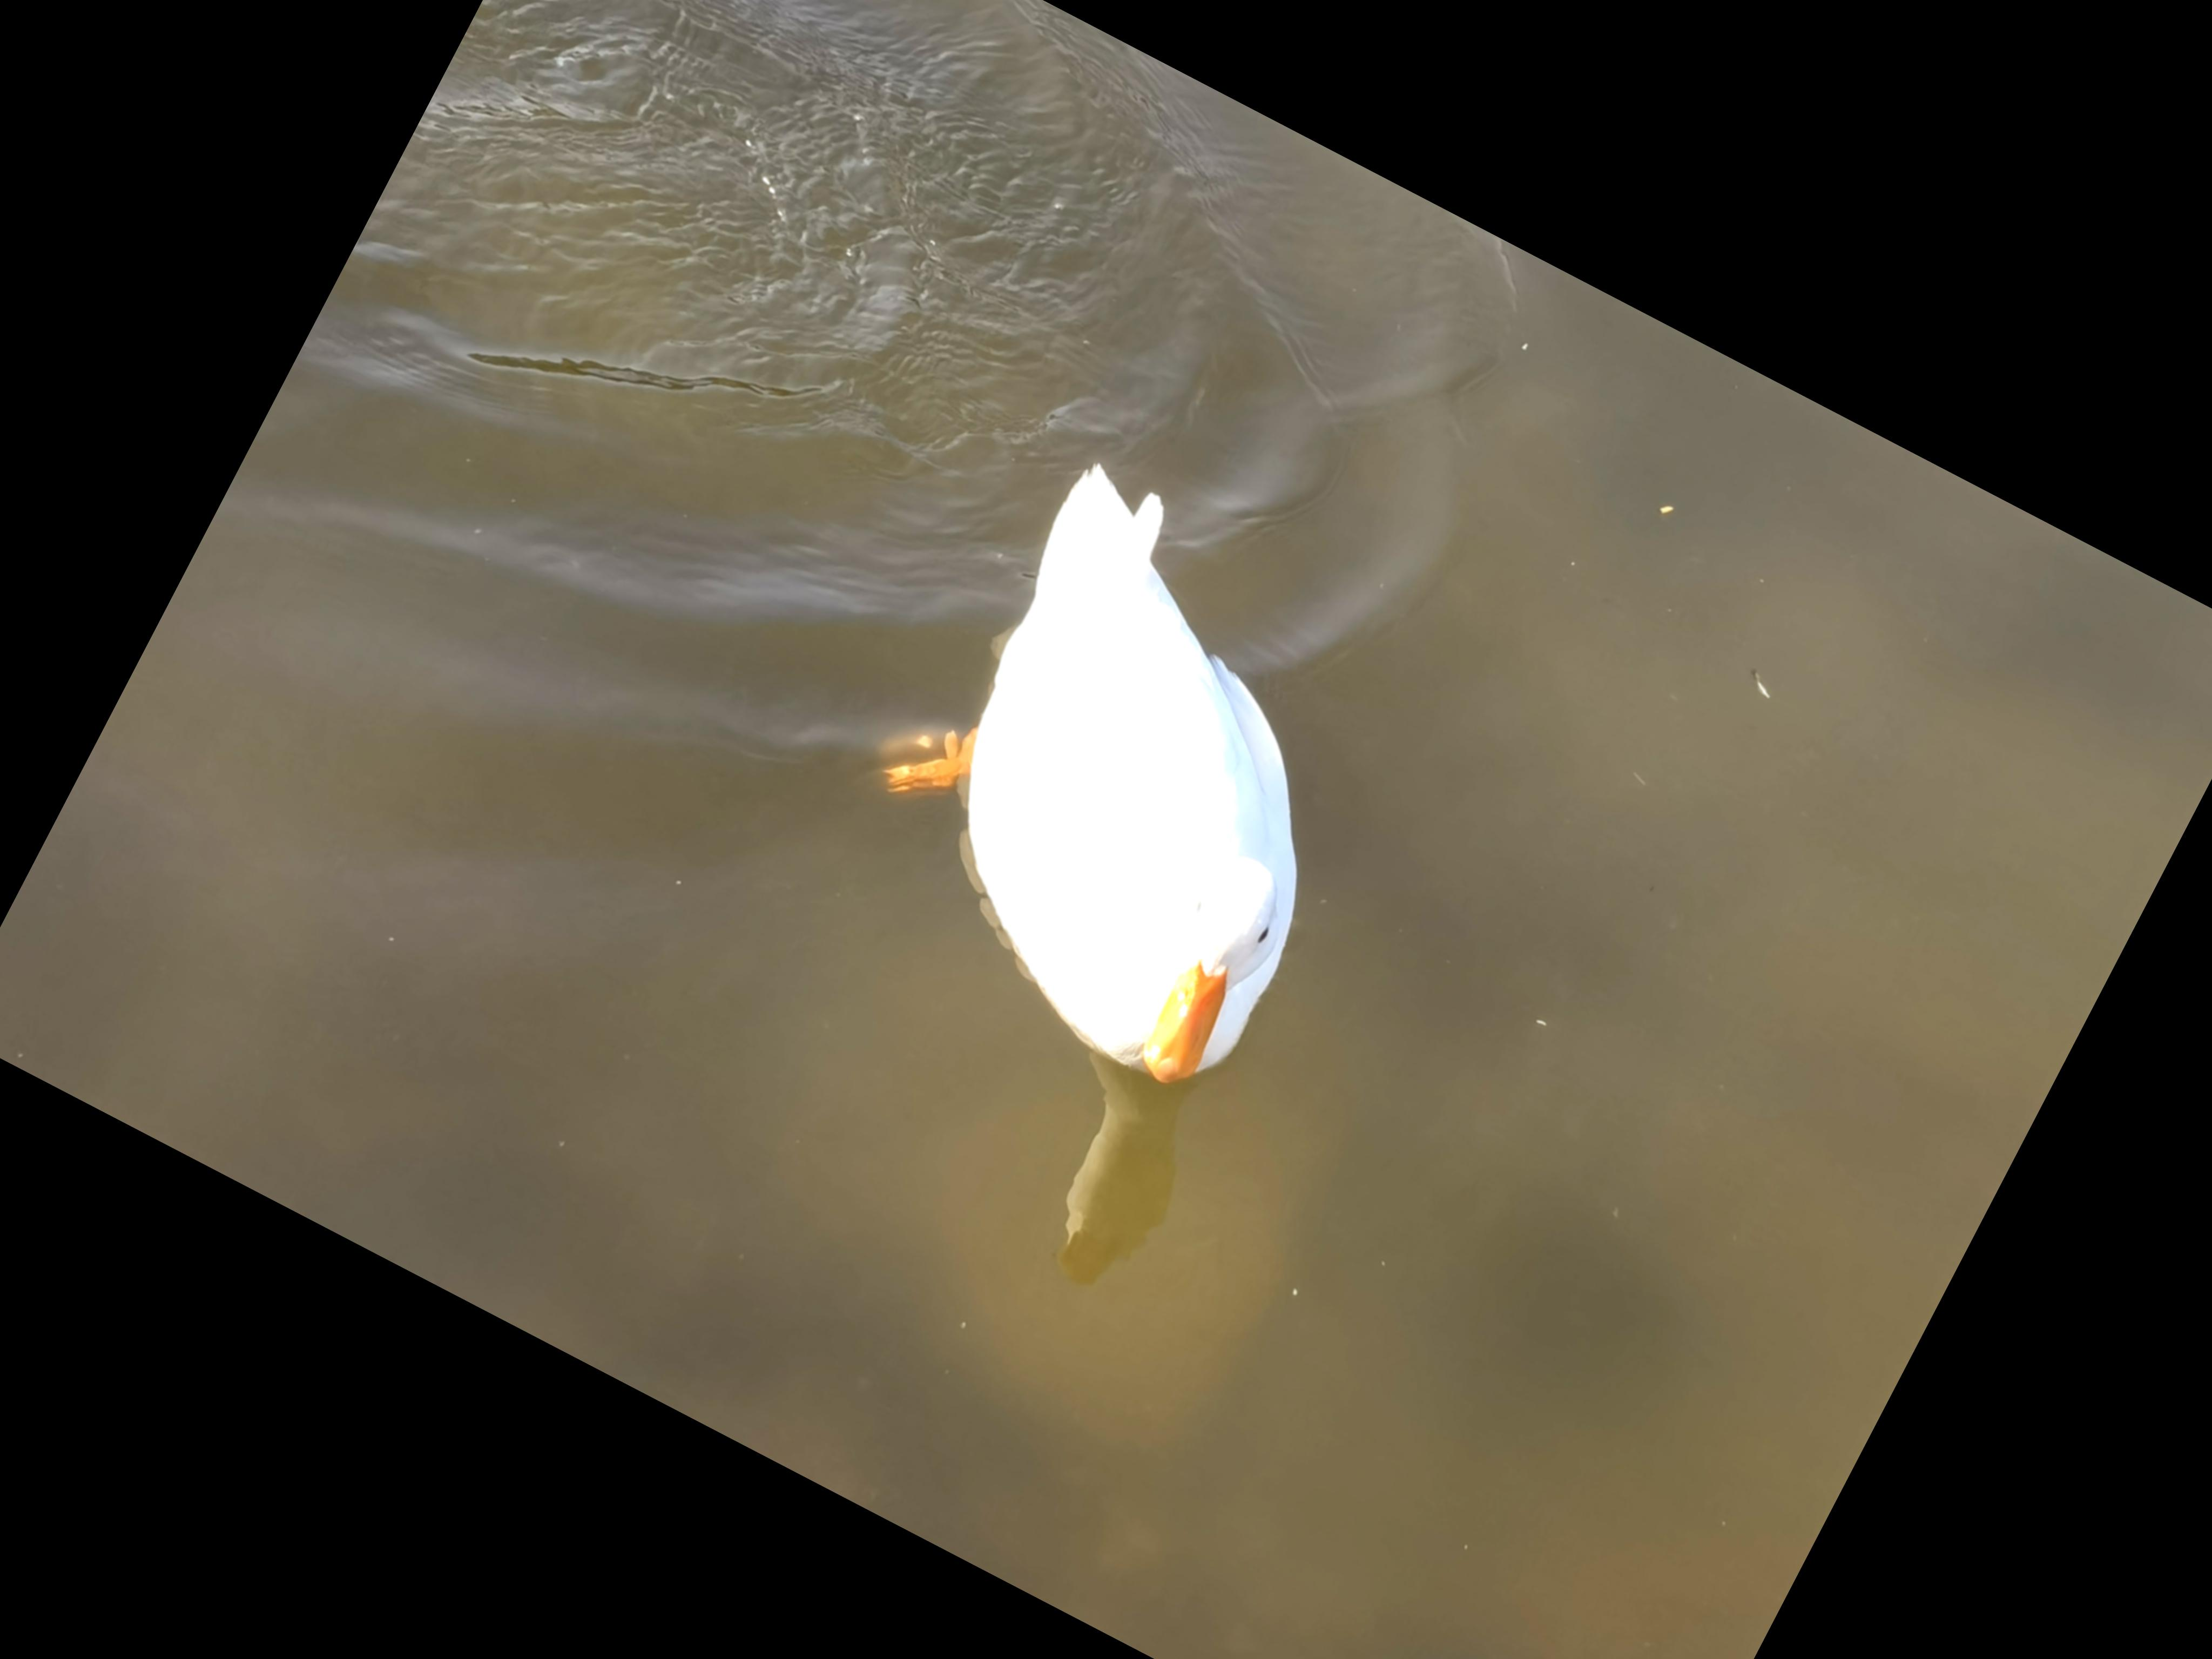duck: (777, 399, 1484, 1134)
